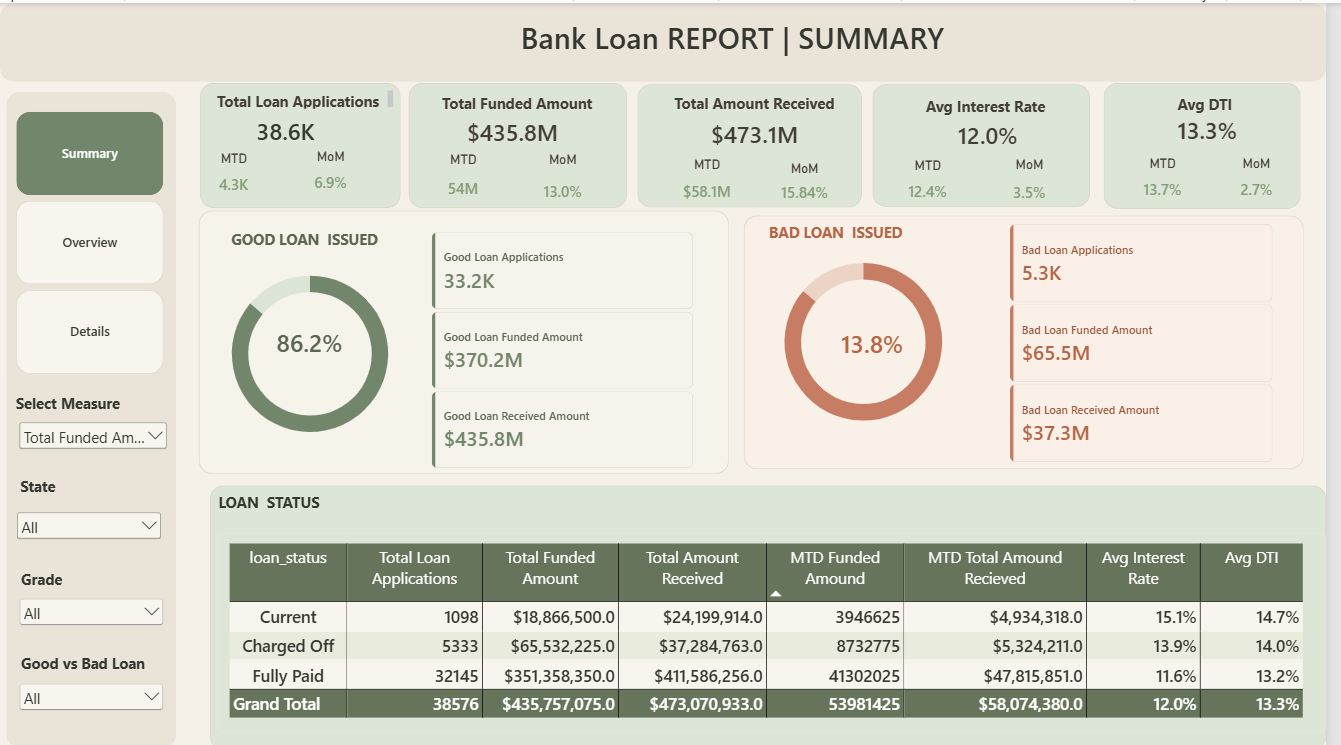

What the dashboard file says about the page in this screenshot:
{"tool":"powerbi","page":{"name":"Summary","canvas":[1920,1080],"ordinal":0},"visuals":[{"type":"shape","box":[290.1,115.8,290.4,180.9],"z":0,"group":"g1"},{"type":"shape","box":[1597.9,115.8,285.1,182.1],"z":0,"group":"g5"},{"type":"shape","box":[592.2,115.9,316.1,181],"z":0,"group":"g2"},{"type":"shape","box":[1263.1,117.6,314.9,177.3],"z":0,"group":"g4"},{"type":"shape","box":[922.6,117.7,325,178.4],"z":0,"group":"g3"},{"type":"shape","box":[304,698.5,1616.1,382.2],"z":0},{"type":"shape","box":[0,0,1920.1,114],"z":1000},{"type":"cardVisual","fields":{"Data":["public bank_loan.Avg DTI"]},"box":[1649.9,151.7,195.6,62.7],"z":1000,"group":"g5"},{"type":"cardVisual","fields":{"Data":["public bank_loan.Total Funded Amount"]},"box":[613.2,156.4,258,62.6],"z":1000,"group":"g2"},{"type":"cardVisual","fields":{"Data":["public bank_loan.Total Amount Received"]},"box":[954.4,157.1,274.9,63.6],"z":1000,"group":"g3"},{"type":"cardVisual","fields":{"Data":["public bank_loan.Avg Interest Rate"]},"box":[1303.5,158.7,254.6,63.1],"z":1000,"group":"g4"},{"type":"textbox","box":[1628.2,132.1,237.1,36.2],"z":2000,"group":"g5"},{"type":"textbox","box":[1294.6,134.8,271.4,35.1],"z":2000,"group":"g4"},{"type":"cardVisual","fields":{"Data":["public bank_loan.Total Loan Applications"]},"box":[318.2,153.7,190.4,61.6],"z":2000,"group":"g1"},{"type":"cardVisual","fields":{"Data":["public bank_loan.Avg DTI"]},"box":[1652.2,157.4,190,47.1],"z":2000},{"type":"shape","box":[9,128.5,246.1,950.1],"z":3000},{"type":"textbox","box":[614,130.8,276.2,33.1],"z":3000,"group":"g2"},{"type":"cardVisual","title":"MTD","fields":{"Data":["public bank_loan.MTD Avg DTI"]},"box":[1615,220,137.5,74.2],"z":3000,"group":"g5"},{"type":"textbox","box":[300.2,127,268.6,26.7],"z":4000,"group":"g1"},{"type":"textbox","box":[931.4,129.5,326,48.8],"z":4000,"group":"g3"},{"type":"cardVisual","title":"MoM","fields":{"Data":["public bank_loan.MoM avg DTI"]},"box":[1758,220,123.1,76],"z":4000,"group":"g5"},{"type":"shape","box":[287.7,300.4,767.4,381.8],"z":4000},{"type":"cardVisual","fields":{"Data":["public bank_loan.Good Loan %"]},"box":[360.1,459.7,176.8,62.6],"z":5000},{"type":"textbox","box":[314.8,327.7,252.2,44.2],"z":6000},{"type":"textbox","box":[713,19.9,694.9,70.6],"z":7000},{"type":"group","id":"g1","title":"Group 1","box":[289.7,115.8,290.8,180.9],"z":8000},{"type":"group","id":"g2","title":"Group 3","box":[592.2,115.9,316.1,189.5],"z":9000},{"type":"group","id":"g3","title":"Group 4","box":[922.6,117.7,334.8,182.1],"z":10000},{"type":"cardVisual","title":"MoM","fields":{"Data":["public bank_loan.MoM Loan Application"]},"box":[420.6,212,117.6,74.2],"z":10000,"group":"g1"},{"type":"group","id":"g4","title":"Group 5","box":[1263.1,117.6,314.9,184.6],"z":11000},{"type":"cardVisual","title":"MTD","fields":{"Data":["public bank_loan.MTD Funded Amound"]},"box":[612.3,215.2,117.7,80.9],"z":11000,"group":"g2"},{"type":"group","id":"g5","title":"Group 2","box":[1597.9,115.8,285.9,182.8],"z":12000},{"type":"cardVisual","title":"MoM","fields":{"Data":["public bank_loan.MoM Total funded Amount"]},"box":[742.9,215.2,145.3,90.1],"z":12000,"group":"g2"},{"type":"slicer","fields":{"Values":["public bank_loan.address_state"]},"box":[20.6,733.5,217.5,70.8],"z":12000,"group":"g6"},{"type":"cardVisual","title":"MTD","fields":{"Data":["public bank_loan.MTD Total Amound Recieved"]},"box":[957.5,222.5,132.4,77.3],"z":13000,"group":"g3"},{"type":"donutChart","fields":{"Category":["public bank_loan.Good Vs Bad Loan"],"Y":["public bank_loan.Total Loan Applications"]},"box":[291.4,342,314.9,333],"z":13000},{"type":"textbox","box":[23.8,940.6,193.4,40],"z":13000,"group":"g6"},{"type":"cardVisual","title":"MoM","fields":{"Data":["public bank_loan.MoM Total Amount Recieved"]},"box":[1095.5,228.1,136.1,68.1],"z":14000,"group":"g3"},{"type":"shape","box":[1076.7,307.6,810.7,367.4],"z":14000},{"type":"slicer","fields":{"Values":["public bank_loan.grade"]},"box":[23.8,857,217.5,70.8],"z":14000,"group":"g6"},{"type":"cardVisual","title":"MTD","fields":{"Data":["public bank_loan.MTD avg interest rate"]},"box":[1263.1,224.9,159.7,73.4],"z":15000,"group":"g4"},{"type":"cardVisual","fields":{"Data":["public bank_loan.Bad Loan Applications","public bank_loan.Bad Loan Funded Amount","public bank_loan.Bad Loan Received Amount"]},"box":[1462.2,320.3,380.4,345.1],"z":15000},{"type":"textbox","box":[10.9,684.9,87.9,49.6],"z":15000,"group":"g6"},{"type":"cardVisual","title":"MoM","fields":{"Data":["public bank_loan.MoM Avg Int Rate"]},"box":[1421.9,222.3,135.5,79.9],"z":16000,"group":"g4"},{"type":"donutChart","fields":{"Category":["public bank_loan.Good Vs Bad Loan"],"Y":["public bank_loan.Total Loan Applications"]},"box":[1091.2,316.7,317.3,348.8],"z":16000},{"type":"textbox","box":[10.9,818.9,104.7,49],"z":16000,"group":"g6"},{"type":"cardVisual","title":"MTD","fields":{"Data":["public bank_loan.MTD Funded Amount"]},"box":[289.7,213.9,97.7,74.2],"z":17000,"group":"g1"},{"type":"textbox","box":[1076.7,316.7,266,54.3],"z":17000},{"type":"slicer","fields":{"Values":["public bank_loan.Good Vs Bad Loan"]},"box":[23.8,980.5,217.5,74.5],"z":17000,"group":"g6"},{"type":"cardVisual","fields":{"Data":["public bank_loan.Bad Loan %"]},"box":[1174.5,462,176.8,62.6],"z":18000},{"type":"cardVisual","fields":{"Data":["public bank_loan.Good Loan Applications","public bank_loan.Good Loan Funded Amount","public bank_loan.Good Loan Received Amount"]},"box":[624.1,331,380.4,345.1],"z":19000},{"type":"slicer","fields":{"Values":["Select Measure.Select Measure"]},"box":[23.8,602.7,222.4,76.3],"z":19000,"group":"g6"},{"type":"textbox","box":[14.1,564.6,167.6,38.1],"z":20000,"group":"g6"},{"type":"tableEx","fields":{"Values":["public bank_loan.loan_status","public bank_loan.Total Loan Applications","public bank_loan.Total Funded Amount","public bank_loan.Total Amount Received","public bank_loan.MTD Funded Amound","public bank_loan.MTD Total Amound Recieved","public bank_loan.Avg Interest Rate","public bank_loan.Avg DTI"]},"box":[314.9,767.3,1605.2,287.7],"z":20000},{"type":"textbox","box":[293.2,707.6,186.4,38],"z":21000},{"type":"pageNavigator","box":[23.6,157.4,213.5,381.8],"z":22000,"group":"g7"},{"type":"group","id":"g6","title":"Group 6","box":[10.9,564.6,235.3,490.4],"z":23000,"group":"g7"},{"type":"group","id":"g7","title":"Group 7","box":[10.9,157.4,235.3,897.6],"z":23001}]}

Visuals, with their boxes in screenshot pixels (x1, y1, x2, y2), scaled from the page's 1920x1080 canvas onto the 1341x745 screenshot:
shape: locate(203, 80, 405, 205)
shape: locate(1116, 80, 1315, 205)
shape: locate(414, 80, 634, 205)
shape: locate(882, 81, 1102, 203)
shape: locate(644, 81, 871, 204)
shape: locate(212, 482, 1340, 744)
shape: locate(0, 0, 1340, 79)
cardVisual - public bank_loan.Avg DTI: locate(1152, 105, 1289, 148)
cardVisual - public bank_loan.Total Funded Amount: locate(428, 108, 608, 151)
cardVisual - public bank_loan.Total Amount Received: locate(667, 108, 859, 152)
cardVisual - public bank_loan.Avg Interest Rate: locate(910, 109, 1088, 153)
textbox: locate(1137, 91, 1303, 116)
textbox: locate(904, 93, 1094, 117)
cardVisual - public bank_loan.Total Loan Applications: locate(222, 106, 355, 149)
cardVisual - public bank_loan.Avg DTI: locate(1154, 109, 1287, 141)
shape: locate(6, 89, 178, 744)
textbox: locate(429, 90, 622, 113)
"MTD" cardVisual: locate(1128, 152, 1224, 203)
textbox: locate(210, 88, 397, 106)
textbox: locate(651, 89, 878, 123)
"MoM" cardVisual: locate(1228, 152, 1314, 204)
shape: locate(201, 207, 737, 471)
cardVisual - public bank_loan.Good Loan %: locate(252, 317, 375, 360)
textbox: locate(220, 226, 396, 257)
textbox: locate(498, 14, 983, 62)
"Group 1" group: locate(202, 80, 405, 205)
"Group 3" group: locate(414, 80, 634, 211)
"Group 4" group: locate(644, 81, 878, 207)
"MoM" cardVisual: locate(294, 146, 376, 197)
"Group 5" group: locate(882, 81, 1102, 208)
"MTD" cardVisual: locate(428, 148, 510, 204)
"Group 2" group: locate(1116, 80, 1316, 206)
"MoM" cardVisual: locate(519, 148, 620, 211)
slicer - public bank_loan.address_state: locate(14, 506, 166, 555)
"MTD" cardVisual: locate(669, 153, 761, 207)
donutChart - public bank_loan.Good Vs Bad Loan x public bank_loan.Total Loan Applications: locate(204, 236, 423, 466)
textbox: locate(17, 649, 152, 676)
"MoM" cardVisual: locate(765, 157, 860, 204)
shape: locate(752, 212, 1318, 466)
slicer - public bank_loan.grade: locate(17, 591, 169, 640)
"MTD" cardVisual: locate(882, 155, 994, 206)
cardVisual - public bank_loan.Bad Loan Applications x public bank_loan.Bad Loan Funded Amount: locate(1021, 221, 1287, 459)
textbox: locate(8, 472, 69, 507)
"MoM" cardVisual: locate(993, 153, 1088, 208)
donutChart - public bank_loan.Good Vs Bad Loan x public bank_loan.Total Loan Applications: locate(762, 218, 984, 459)
textbox: locate(8, 565, 81, 599)
"MTD" cardVisual: locate(202, 148, 271, 199)
textbox: locate(752, 218, 938, 256)
slicer - public bank_loan.Good Vs Bad Loan: locate(17, 676, 169, 728)
cardVisual - public bank_loan.Bad Loan %: locate(820, 319, 944, 362)
cardVisual - public bank_loan.Good Loan Applications x public bank_loan.Good Loan Funded Amount: locate(436, 228, 702, 466)
slicer - Select Measure.Select Measure: locate(17, 416, 172, 468)
textbox: locate(10, 389, 127, 416)
tableEx - public bank_loan.loan_status x public bank_loan.Total Loan Applications: locate(220, 529, 1340, 728)
textbox: locate(205, 488, 335, 514)
pageNavigator: locate(16, 109, 166, 372)
"Group 6" group: locate(8, 389, 172, 728)
"Group 7" group: locate(8, 109, 172, 728)
